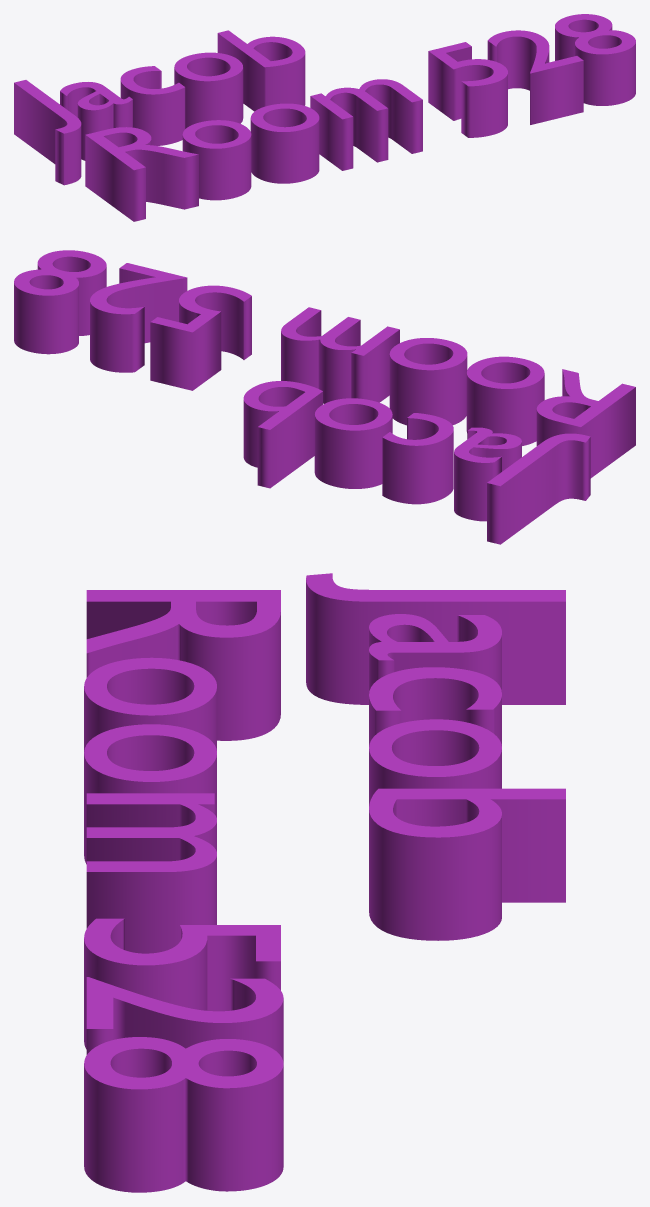
Rendered from jacob-528.gltf.
3 renders of one model, top to bottom at view 1: azimuth 30°, elevation 25°; view 2: azimuth 150°, elevation 25°; view 3: azimuth 270°, elevation 25°, orthographic. The views are drawn at different scales.
Parts seen in each view (by area): view 1: Text; view 2: Text; view 3: Text.
Boxes of the visible parts, x1,y1,x2,y2 form: Text: [14, 14, 635, 221]; Text: [14, 250, 635, 544]; Text: [84, 573, 565, 1192].
Size of the model in its own units: 4.29 by 0.4 by 1.69.
